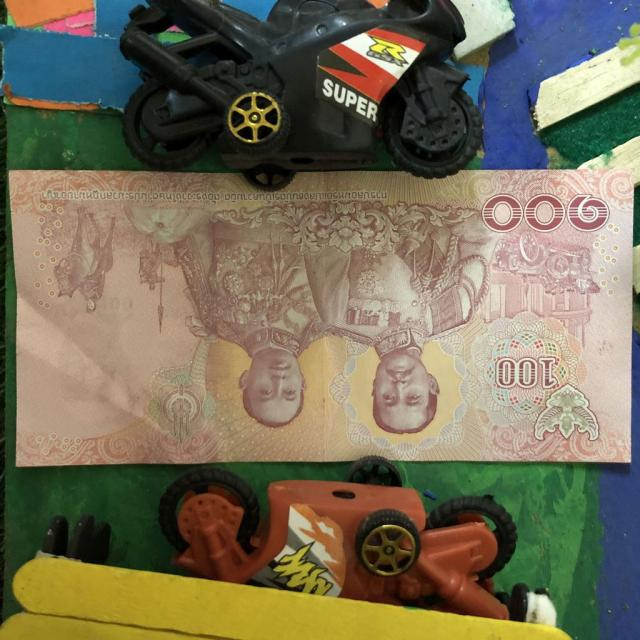THAI100: (9, 170, 632, 466)
